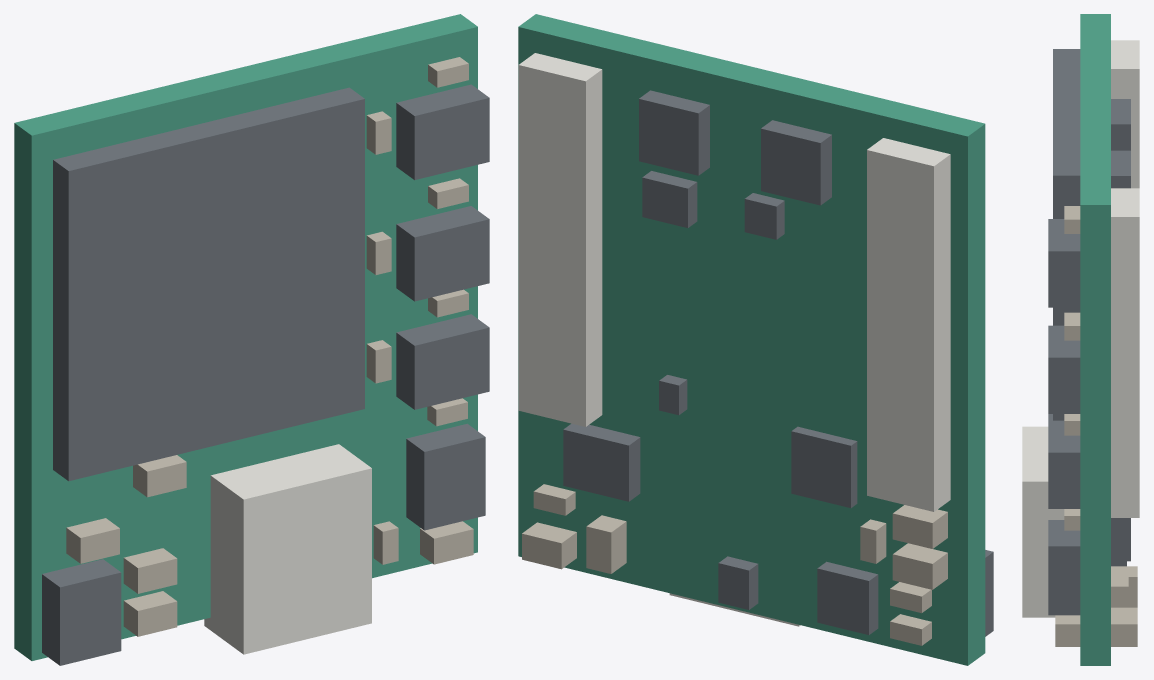
File: Option_B_V2_part_2.glb
The picture shows the model from 3 angles, left to right: view 1: azimuth 30°, elevation 25°; view 2: azimuth 150°, elevation 25°; view 3: azimuth 270°, elevation 25°; orthographic projection. The views are drawn at different scales.
Visible parts, largest first — view 1: ic, board, conn, passive; view 2: board, conn, ic, passive; view 3: board, ic, conn, passive.
Boxes of the visible parts, x1,y1,x2,y2 form: ic: (42, 84, 489, 665); board: (14, 14, 477, 660); conn: (204, 444, 371, 654); passive: (66, 57, 473, 636); board: (518, 14, 985, 665); conn: (518, 53, 950, 626); ic: (563, 90, 993, 636); passive: (522, 484, 947, 645); board: (1080, 14, 1110, 665); ic: (1048, 49, 1130, 615); conn: (1022, 40, 1139, 617); passive: (1055, 206, 1137, 646).
Bounding box in the file's own units: 22.59 × 26.04 × 5.87.
